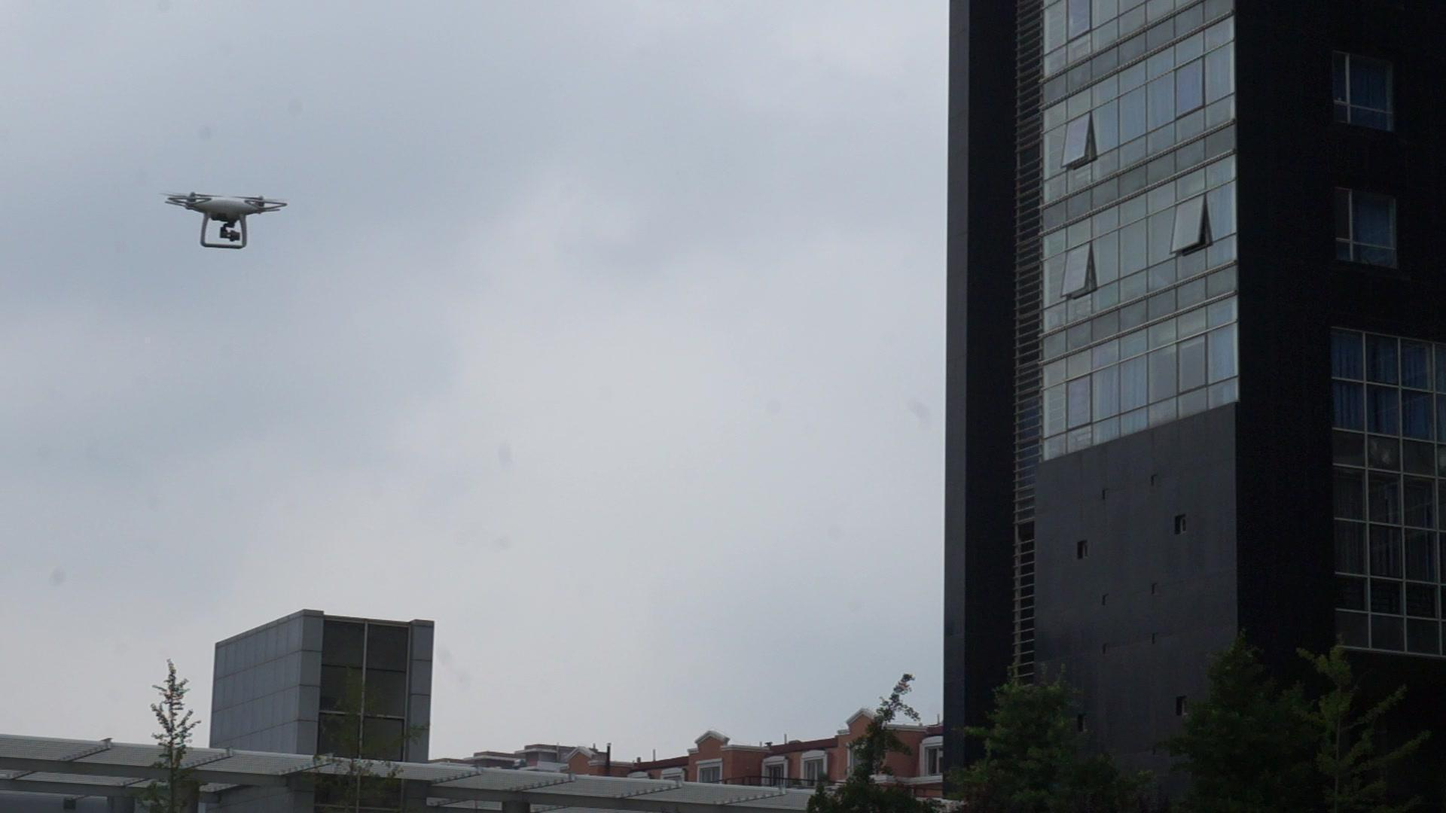UAV: (967, 452, 1446, 684)
